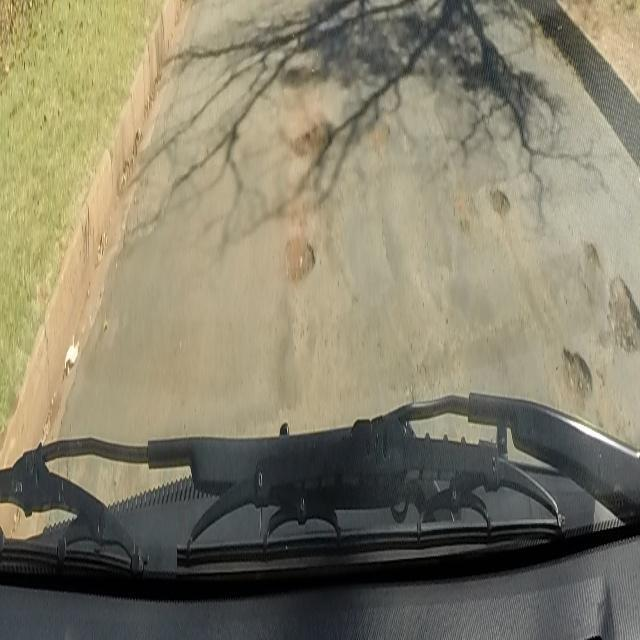pothole: (289, 112, 331, 164), (562, 340, 594, 401), (284, 231, 316, 284), (614, 276, 632, 356), (490, 184, 510, 220), (584, 234, 601, 268)
